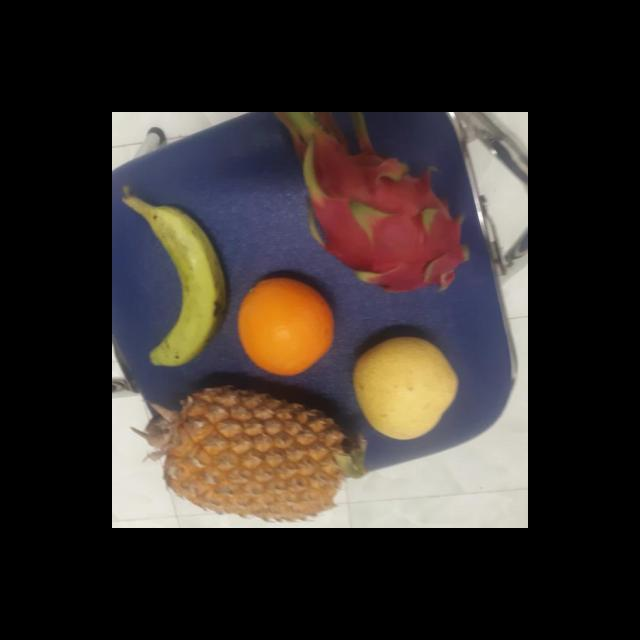banana: (139, 201, 228, 366)
guava: (353, 336, 462, 438)
pineapple: (156, 376, 366, 524)
pitaya: (301, 150, 475, 290)
